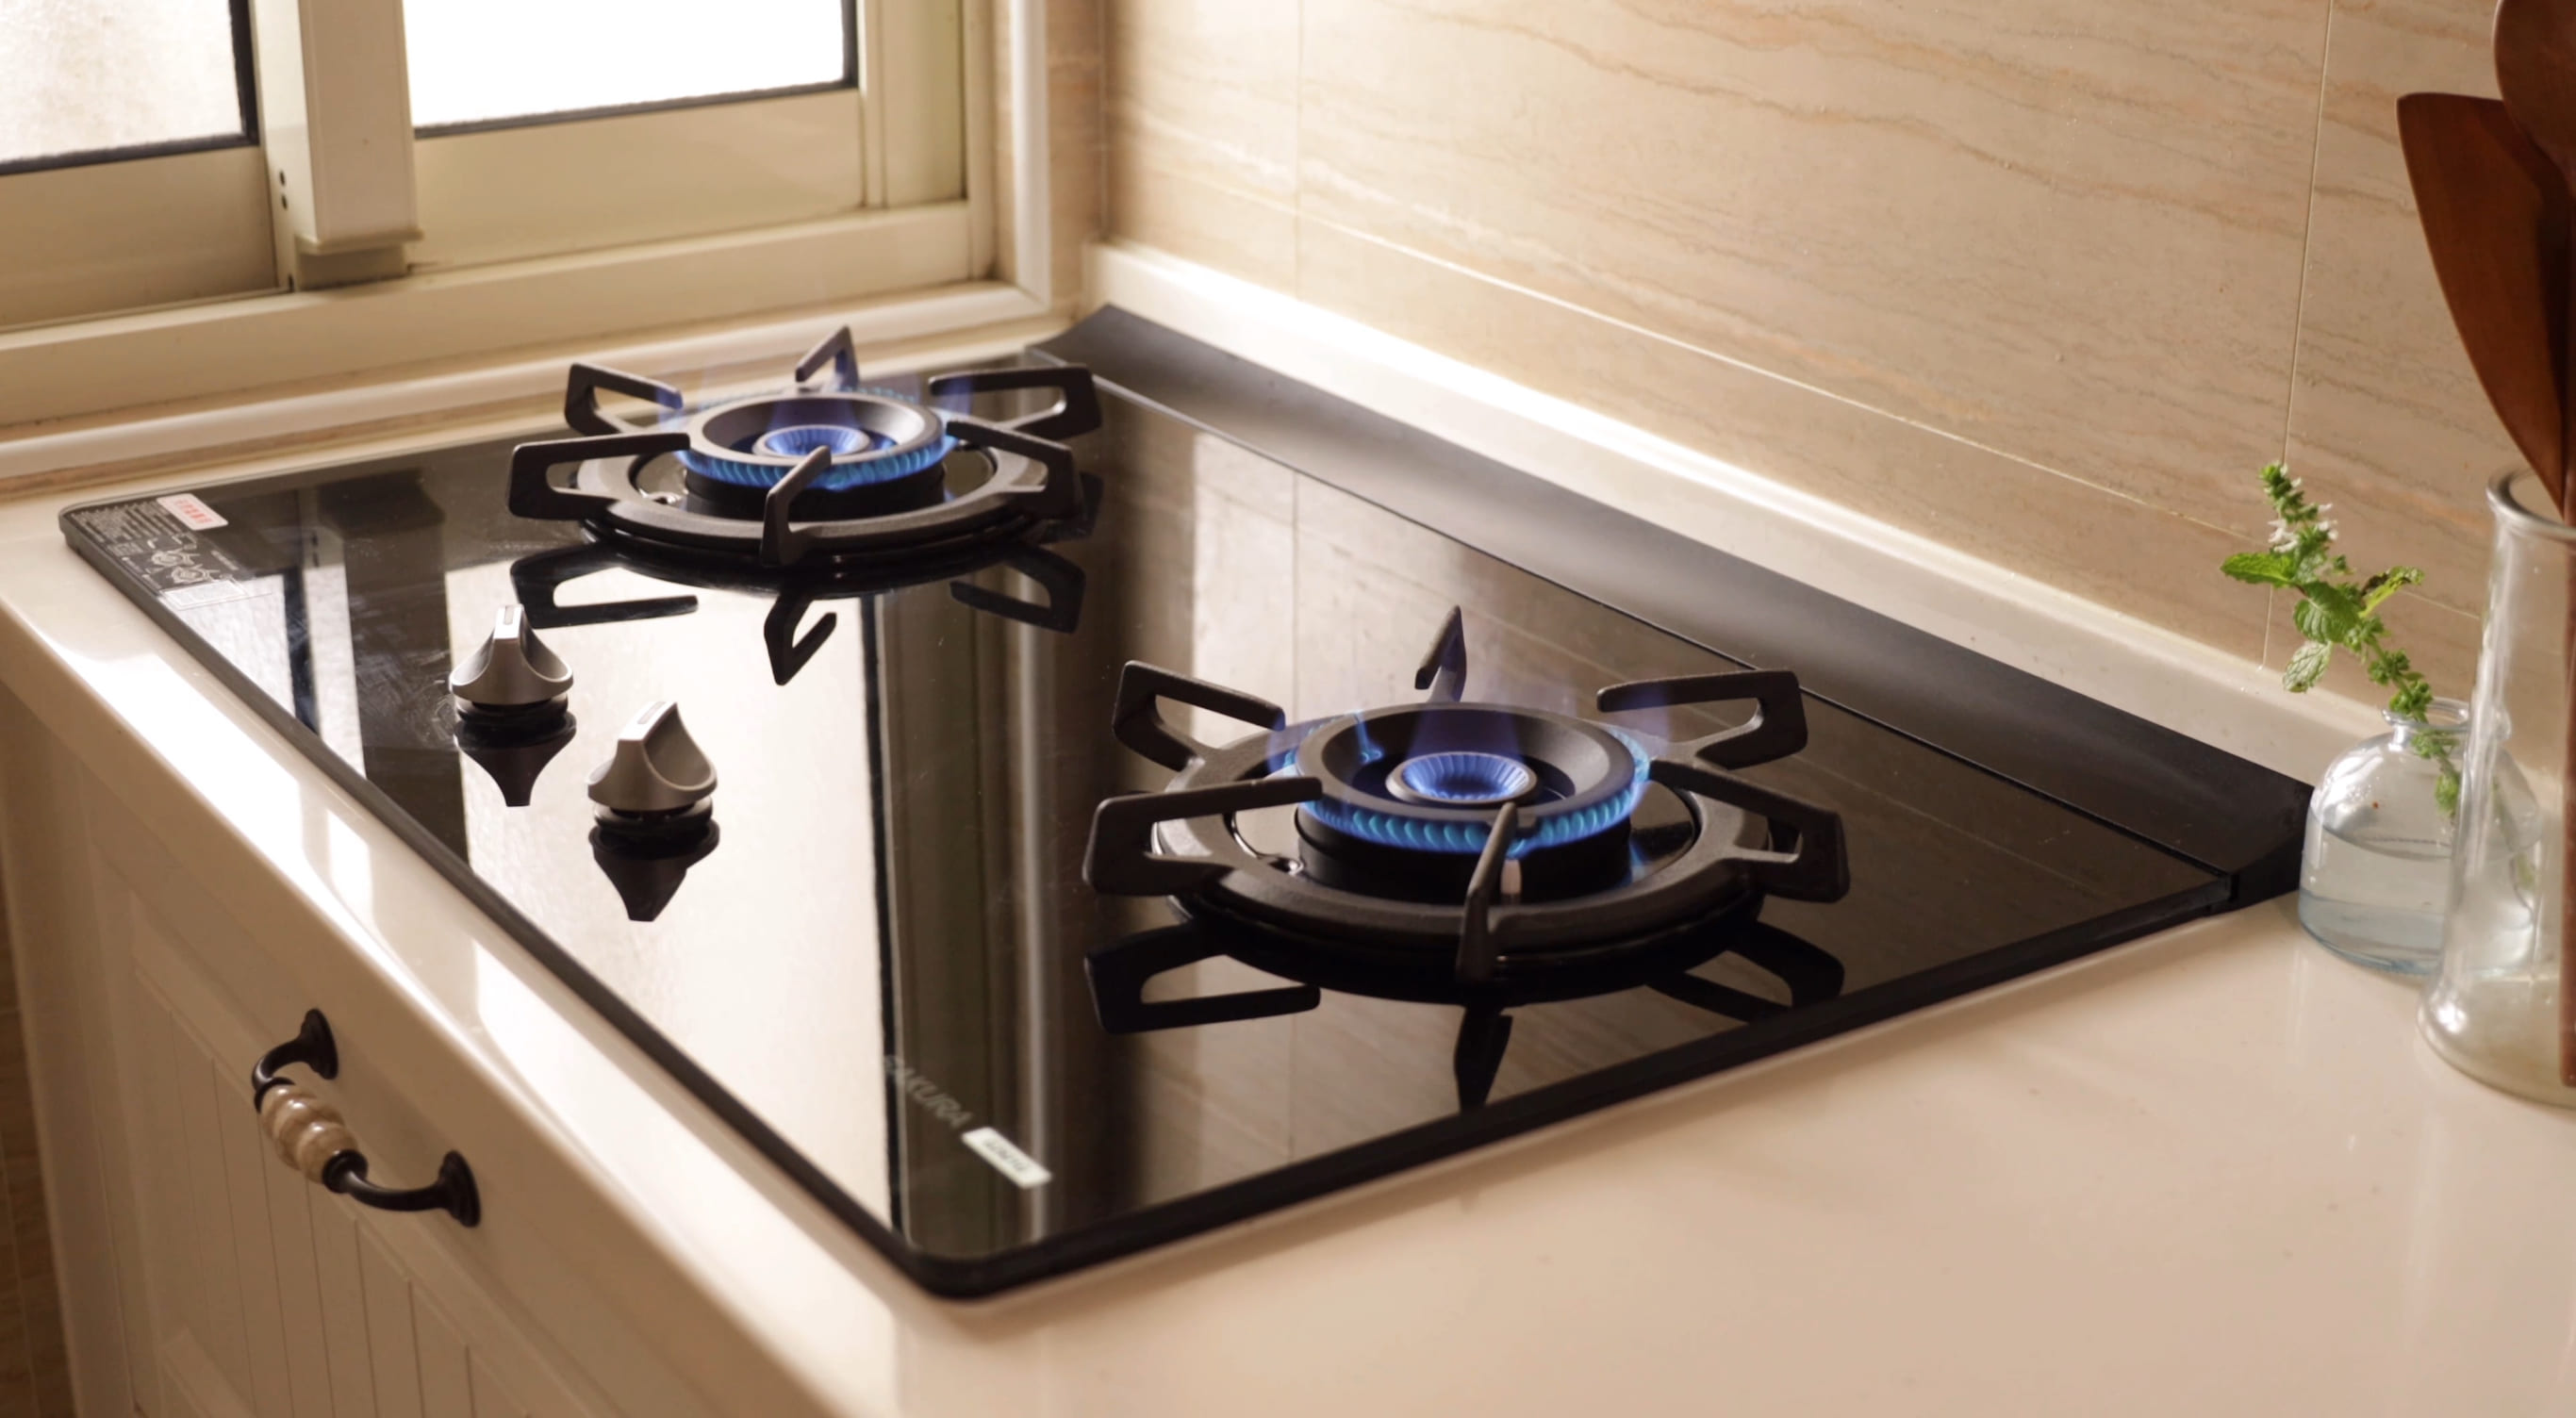gasoven: (44, 281, 2333, 1304)
